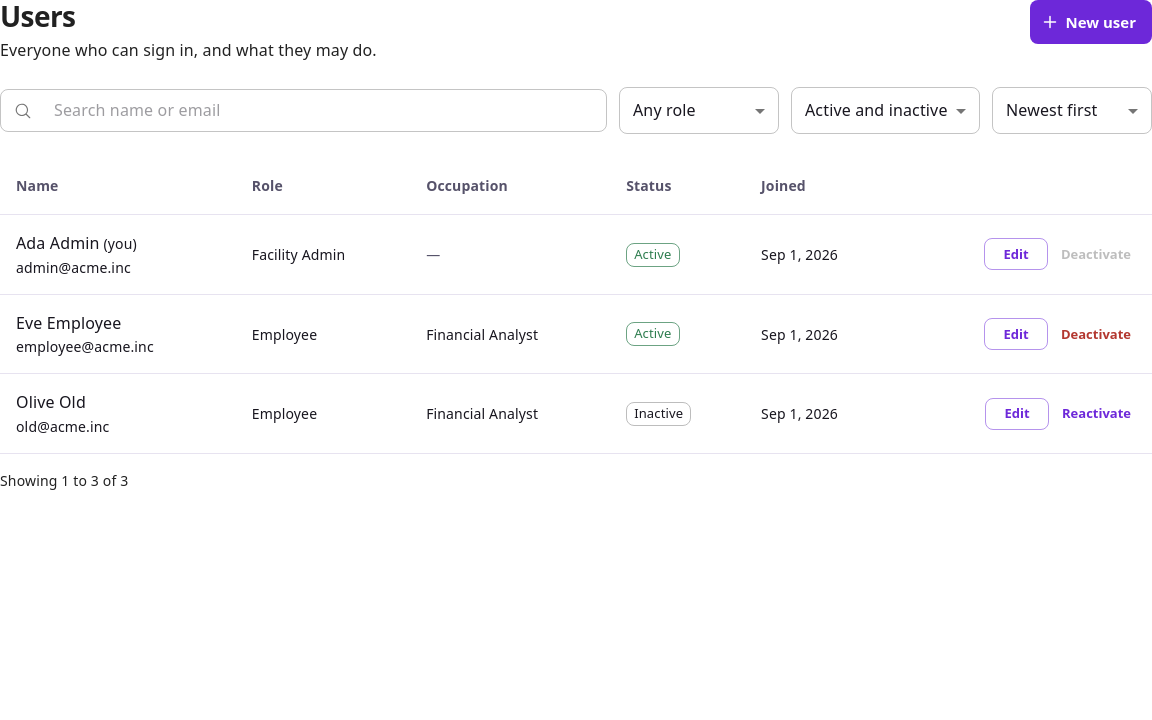
Scenario: UsersPage › edits a user and sends only what changed
expect the text "Showing 1 to 3 of 3" is shown: met, box [0,470,128,491]
Click the button "Edit" in the row of "Eve Employee". click: coordinates (1016, 334)
box: [984,318,1048,350]
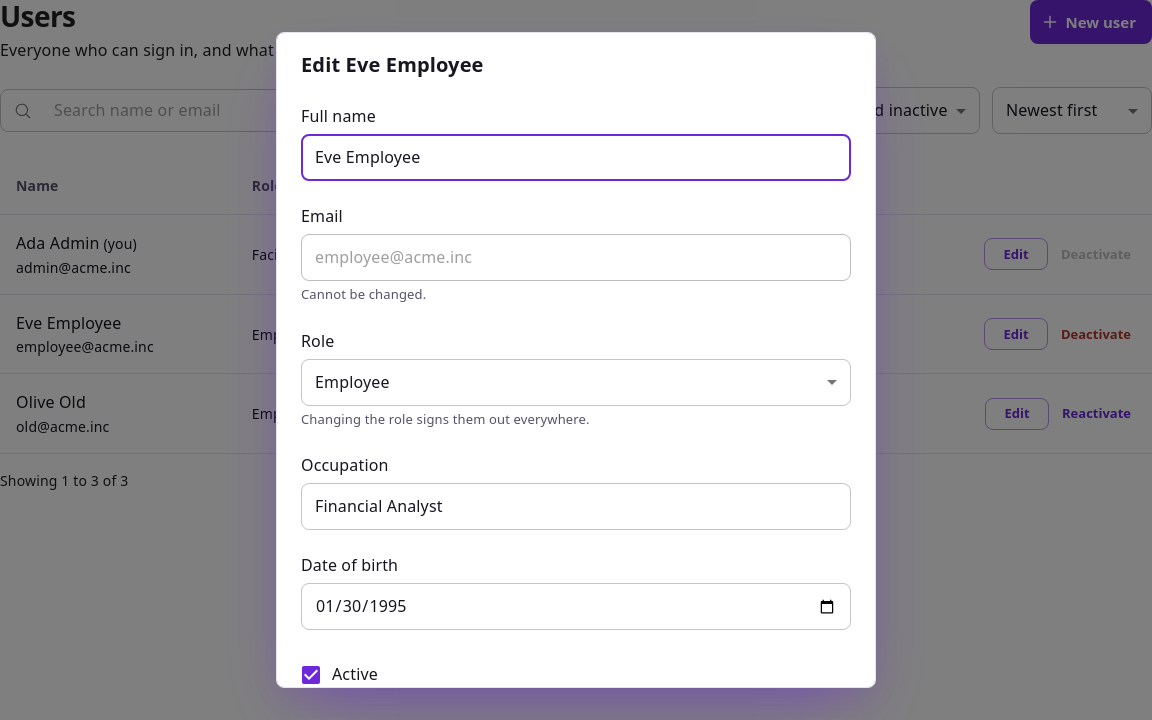
expect the field labelled "Email" is disabled: met, box [301,234,851,281]
Replace the text in the field labelled "Full name" with "Eve Evans". click: coordinates (576, 158)
box: [301,134,851,181]
(page scrolled)
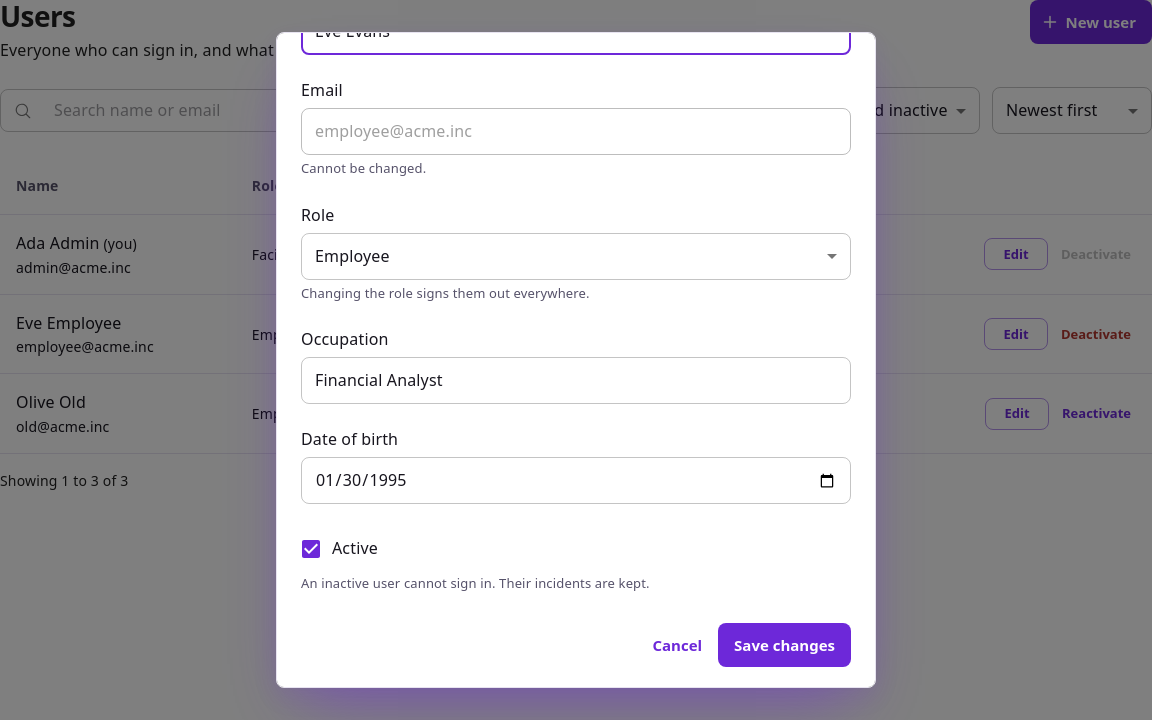
Click the button "Save changes". click: coordinates (785, 645)
box: [718,623,851,667]
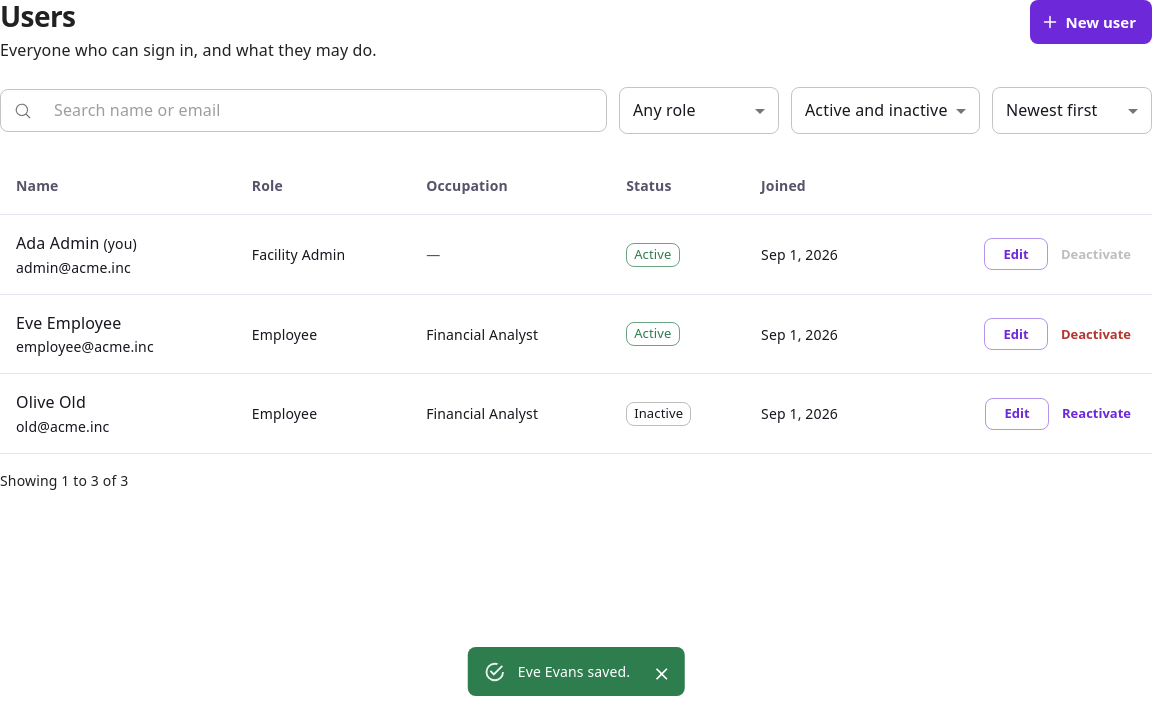
expect the text "Eve Evans saved." is shown: met, box [518,662,630,681]
